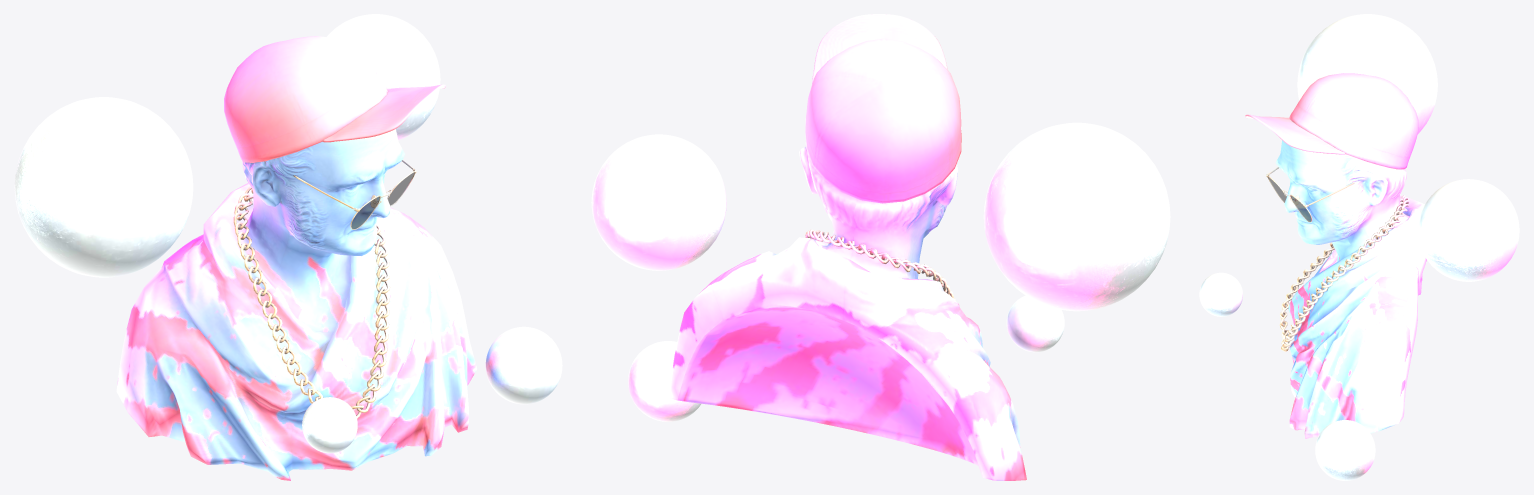
The model's file is Statue_compress.gltf.
The picture shows the model from 3 angles, left to right: view 1: azimuth 30°, elevation 25°; view 2: azimuth 150°, elevation 25°; view 3: azimuth 270°, elevation 25°; orthographic projection. The views are drawn at different scales.
Visible parts, largest first — view 1: Statue.001; view 2: Statue.001; view 3: Statue.001.
Part boxes in pixels (box(x1,y1,x2,y2)): Statue.001: box(14, 14, 562, 480); Statue.001: box(591, 14, 1170, 480); Statue.001: box(1199, 14, 1519, 480).
Bounding box in the file's own units: 1.07 × 0.8036 × 0.73.
